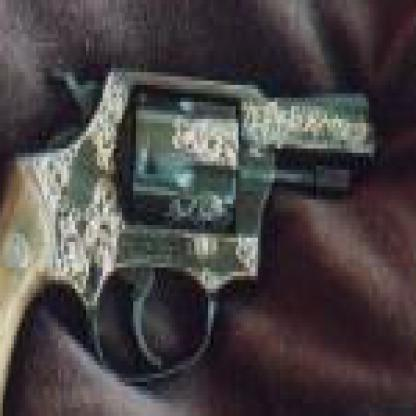gun: (0, 63, 389, 412)
